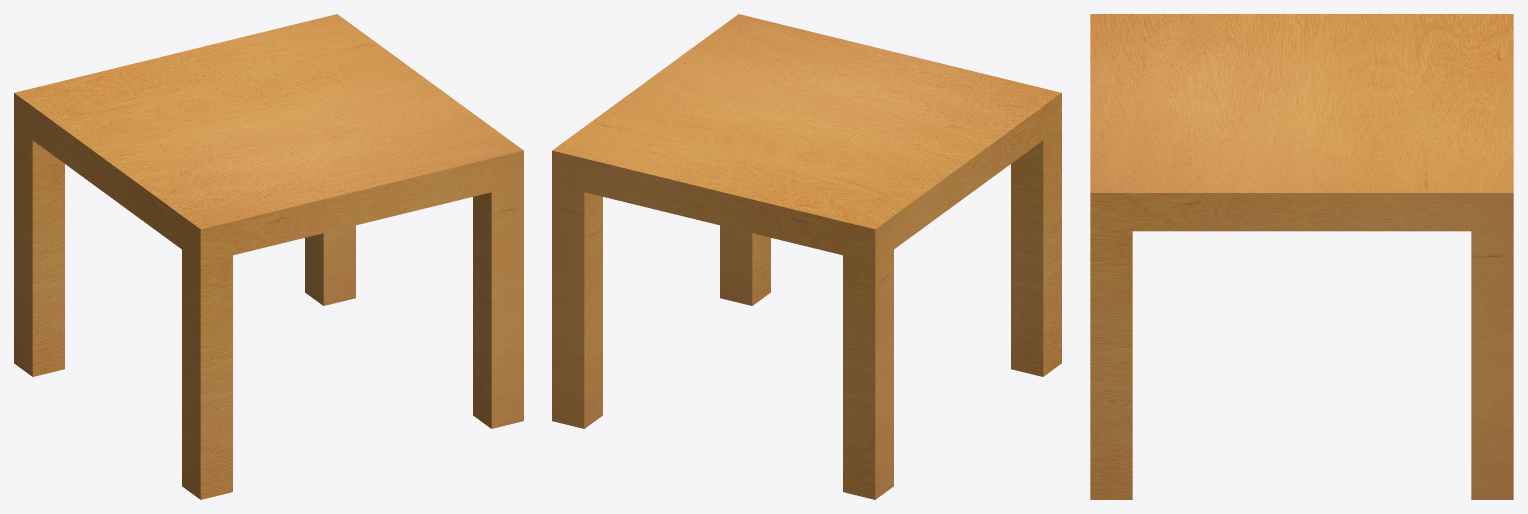
File: Furniture_Desk.fbx
3 renders of one model, left to right at view 1: azimuth 30°, elevation 25°; view 2: azimuth 150°, elevation 25°; view 3: azimuth 270°, elevation 25°, orthographic. The views are drawn at different scales.
Parts seen in each view (by area): view 1: pCube1; view 2: pCube1; view 3: pCube1.
Part boxes in pixels (left/top/right/bottom): pCube1: left=14, top=14, right=523, bottom=499; pCube1: left=552, top=14, right=1061, bottom=499; pCube1: left=1090, top=14, right=1513, bottom=499.
Bounding box in the file's own units: 100 × 80 × 100.
1 material, 1 textured.
